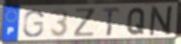3: (49, 7, 70, 39)
G: (22, 9, 46, 38)
N: (148, 4, 176, 37)
Q: (126, 7, 147, 36)
T: (101, 6, 121, 37)
Z: (73, 7, 97, 38)
